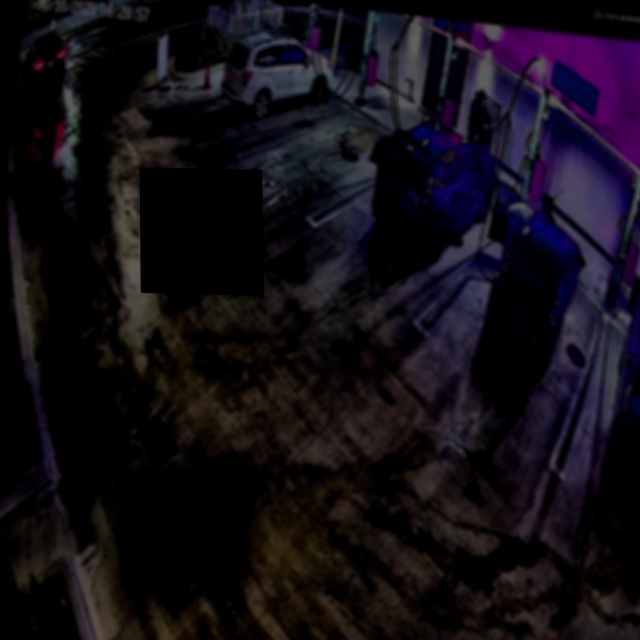Car: (473, 173, 598, 376), (363, 113, 503, 266)
